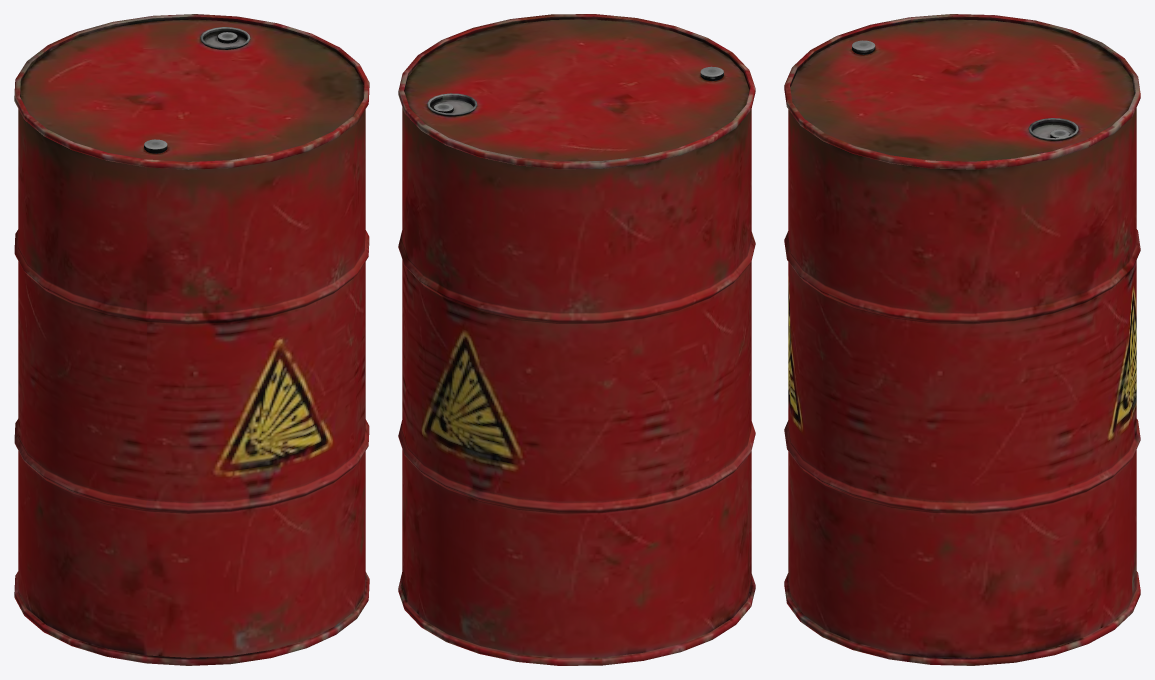
Rendered from Barrel_01.glb.
3 renders of one model, left to right at view 1: azimuth 30°, elevation 25°; view 2: azimuth 150°, elevation 25°; view 3: azimuth 270°, elevation 25°, orthographic.
Parts seen in each view (by area): view 1: Barrel_01; view 2: Barrel_01; view 3: Barrel_01.
Boxes of the visible parts, box(x1,y1,x2,y2) form: Barrel_01: box(14, 14, 369, 665); Barrel_01: box(398, 14, 755, 665); Barrel_01: box(784, 14, 1140, 665).
Bounding box in the file's own units: 0.5631 × 0.88 × 0.5631.
Materials: 1 (1 with a texture image).
